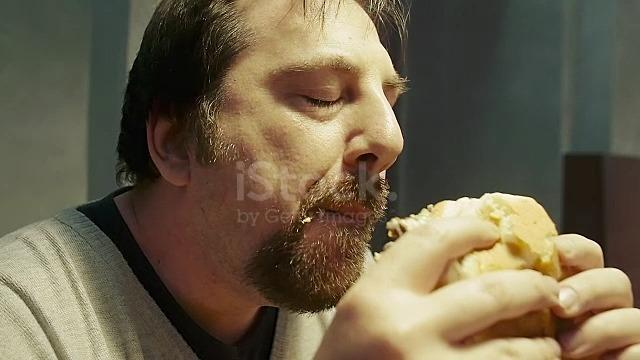Eating: (128, 0, 600, 360)
